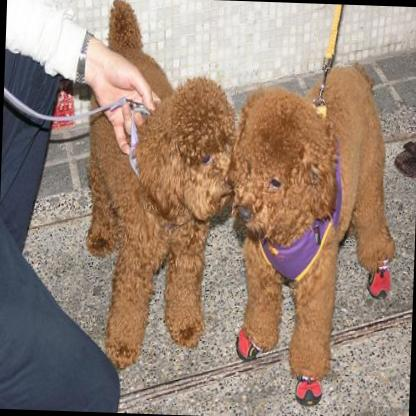toy_poodle: (78, 0, 241, 377), (221, 59, 400, 381)
